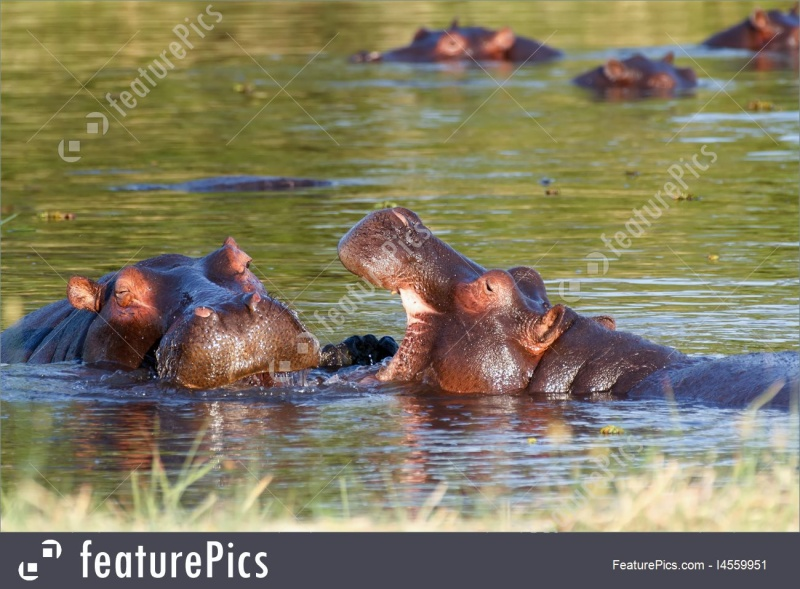hipopotamo: (323, 201, 800, 427), (0, 225, 321, 404)
